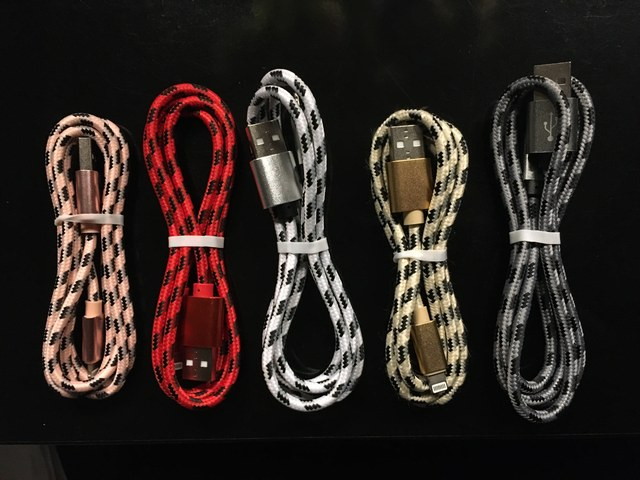Eveready AAA Batteries: (32, 24, 608, 456)
